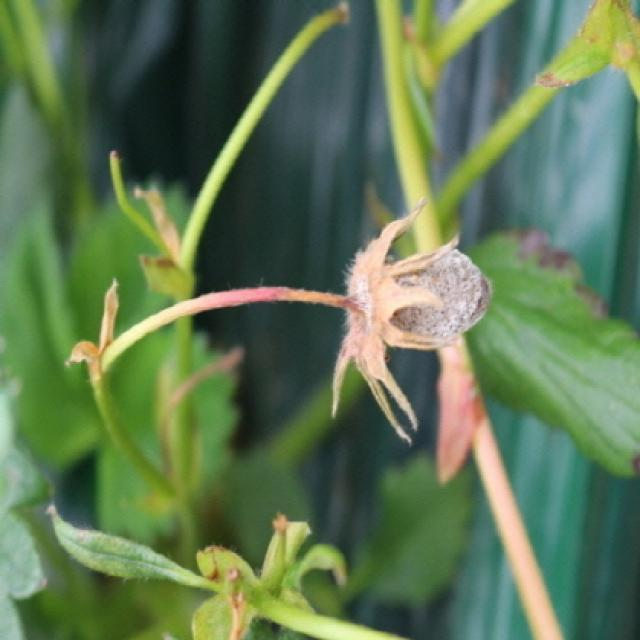Gray Mold: (318, 201, 493, 446)
